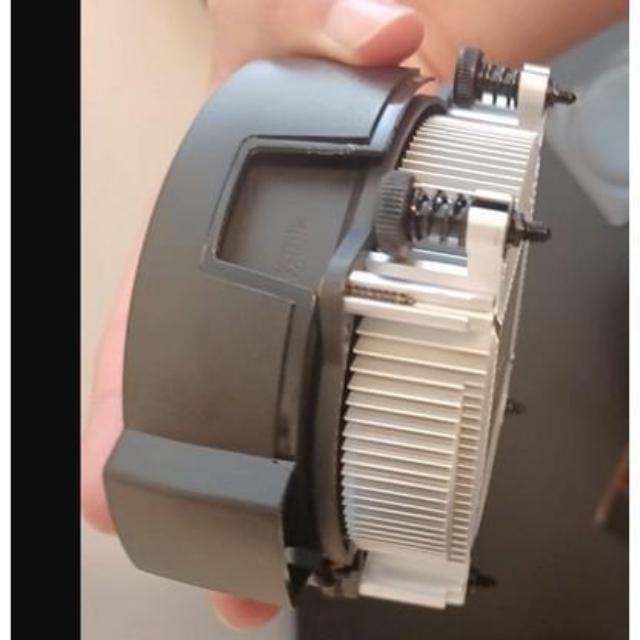CPU_Fan: (124, 37, 530, 611)
